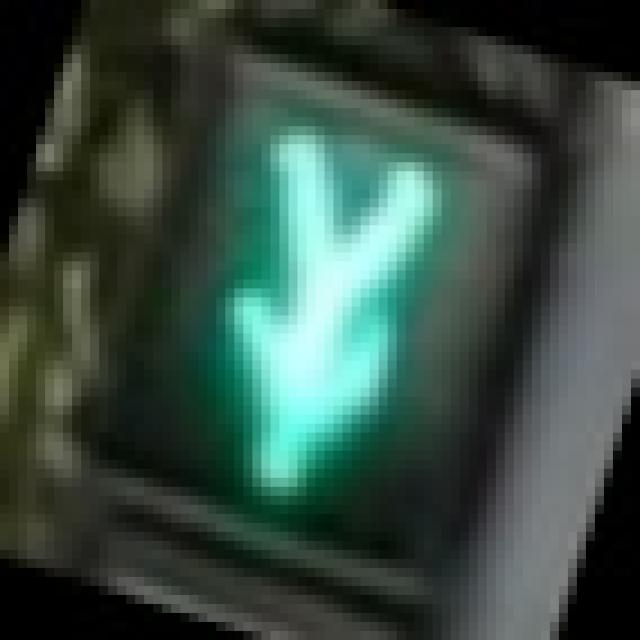green_light: (90, 54, 523, 559)
